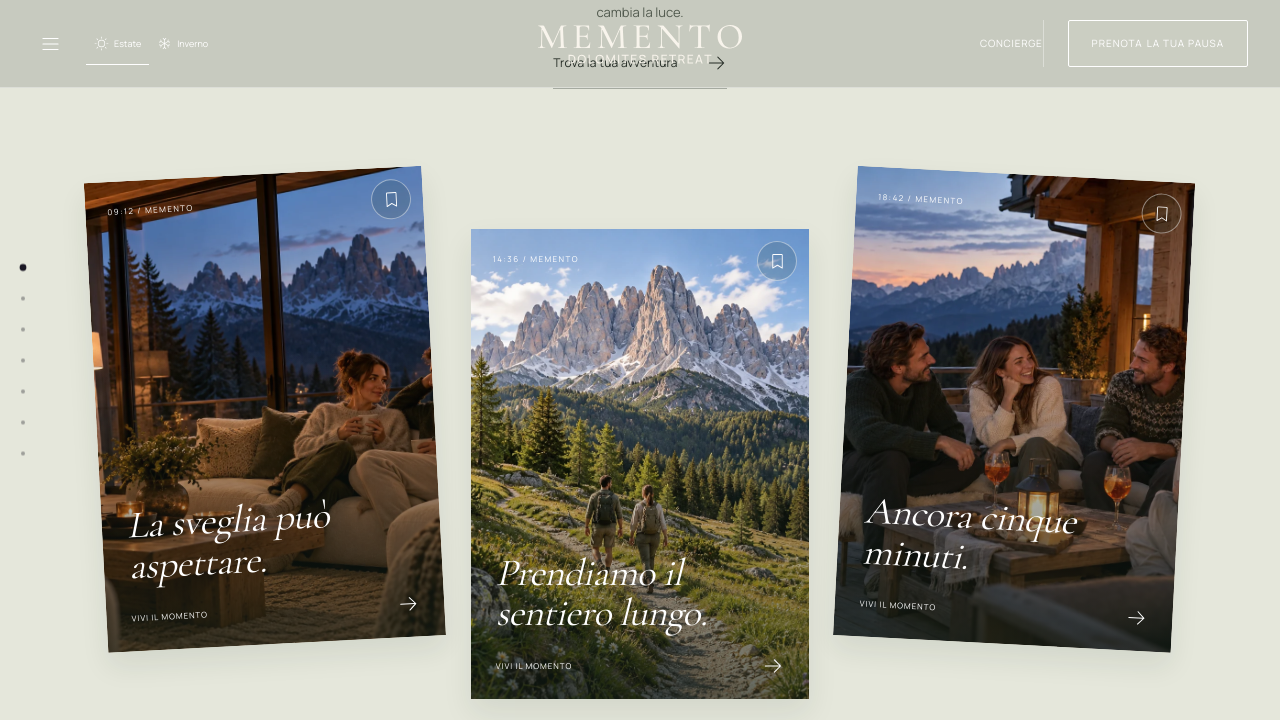
Test: Visitor flows in a DOM simulation › opens a day moment with matching copy, then carries its intention into the planner
This screenshot has width=1280, height=720.
(page scrolled)
Click the button with aria-label "Apri il momento: Ancora cinque minuti.".
click(1015, 409)  # box [833,165,1196,652]
(page scrolled)
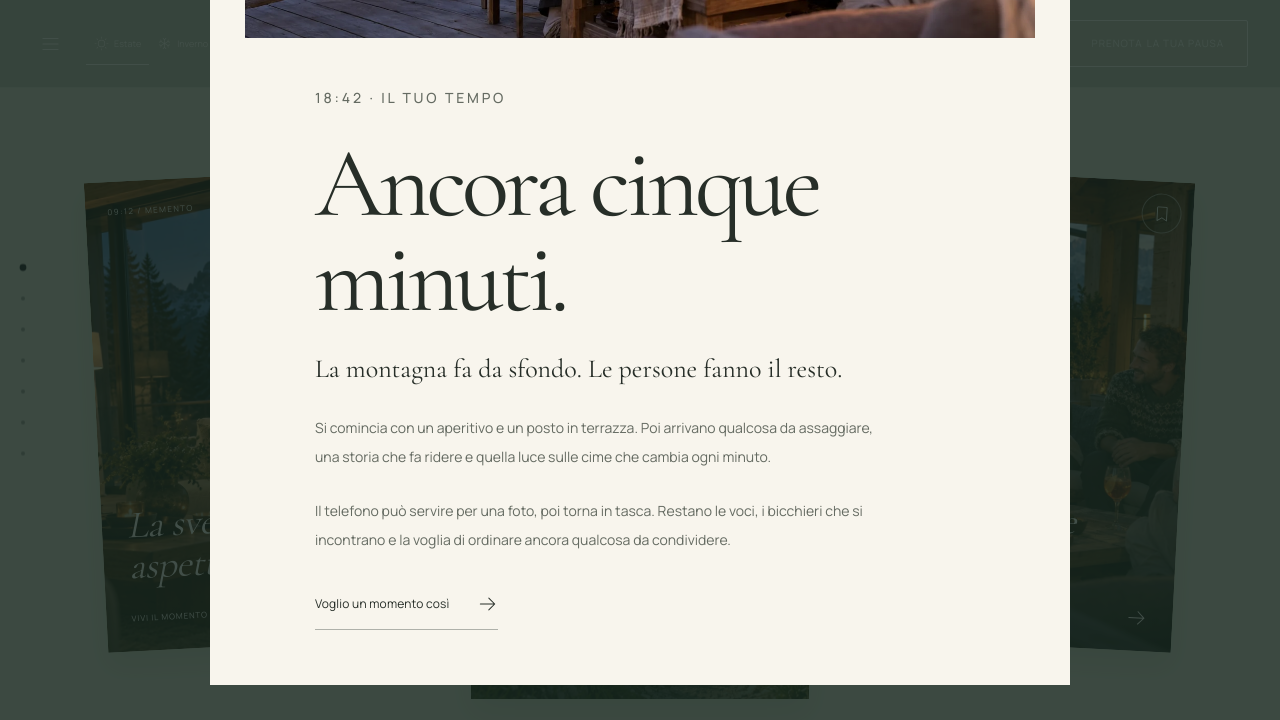
Expected: the text "Si comincia con un aperitivo" is shown, [315,418,873,466]
Click the button "Voglio un momento così".
click(407, 605)  # box [315,579,498,630]
(page scrolled)
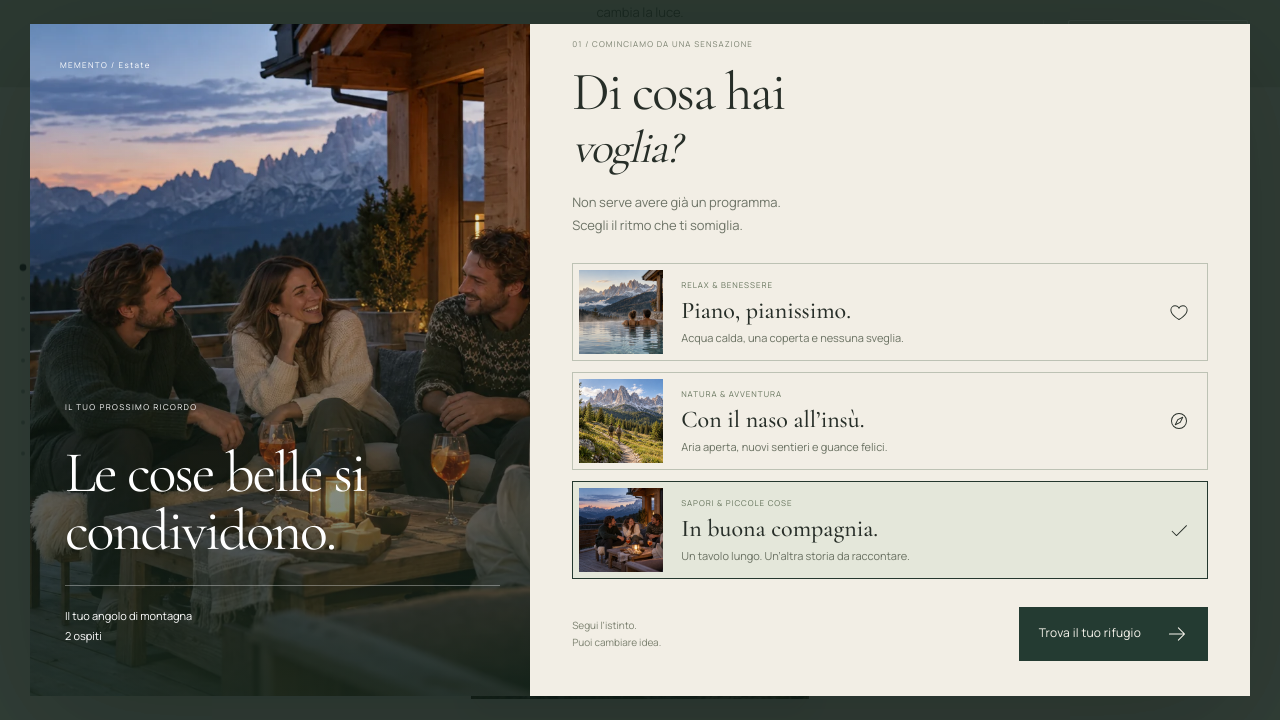
Click the button "Trova il tuo rifugio".
click(1113, 634)  # box [1019,607,1208,661]
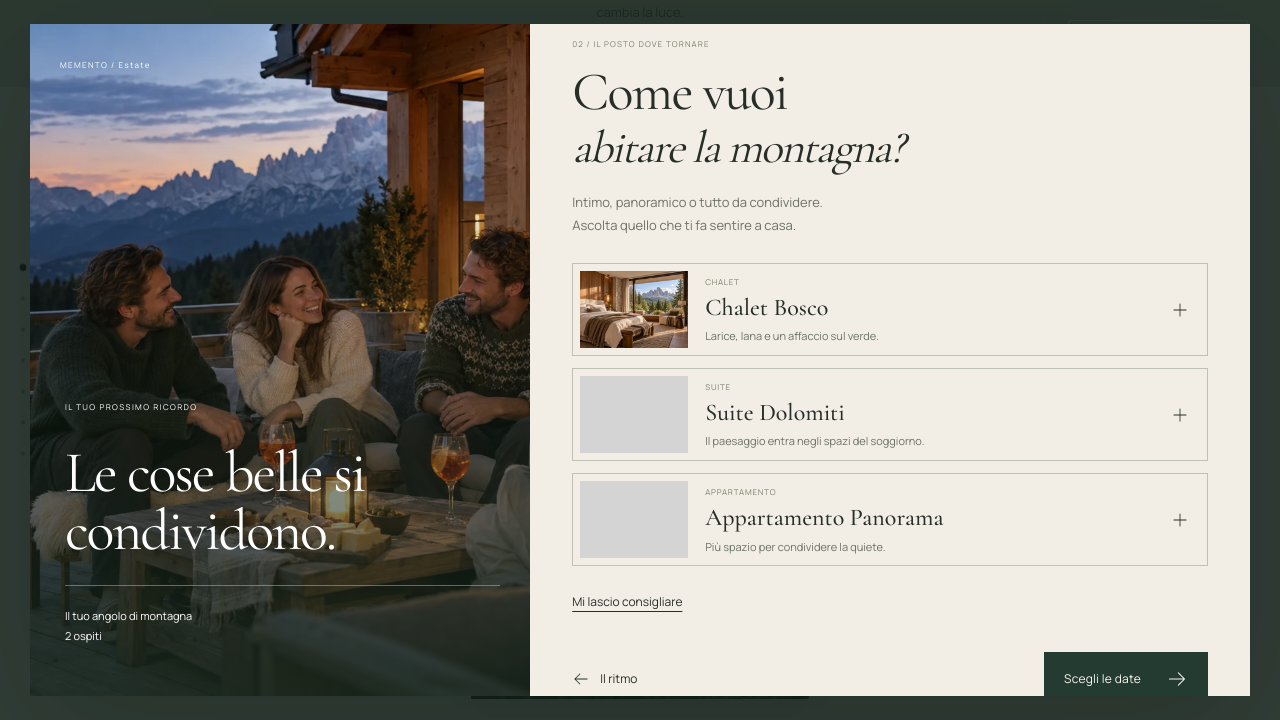
Click the button "Scegli le date".
click(1126, 679)  # box [1044,652,1208,706]
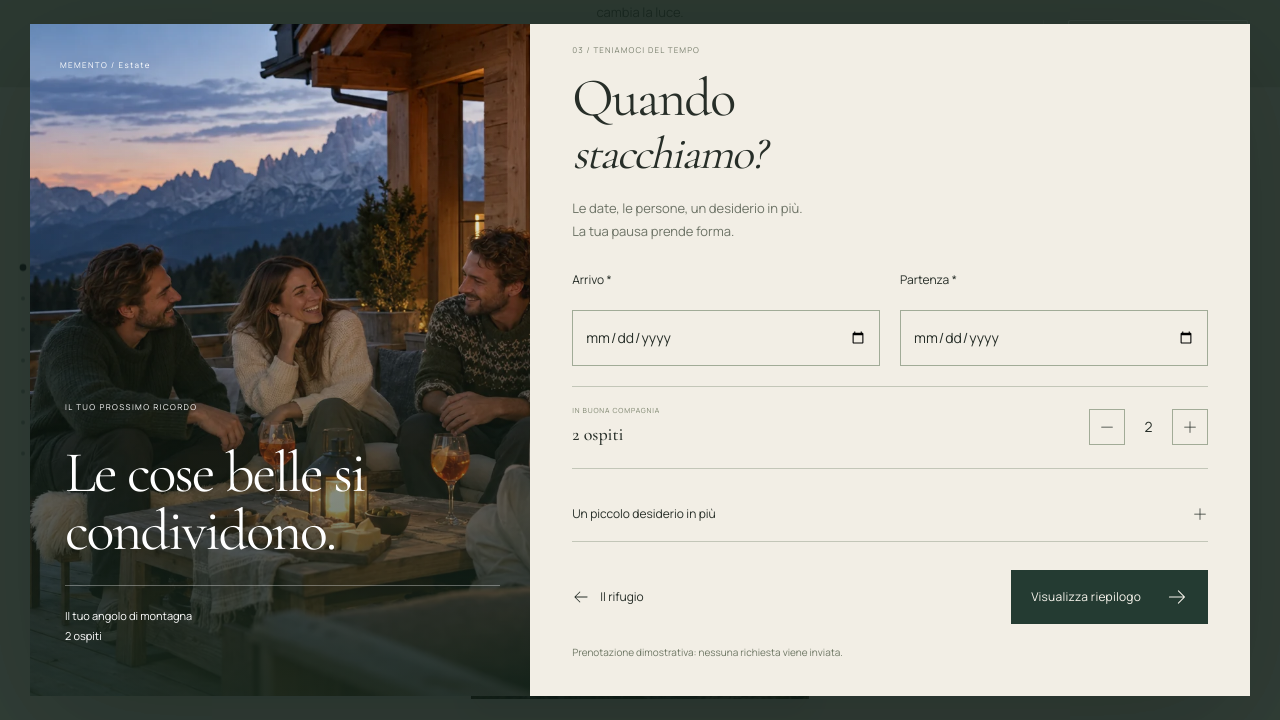
Click the heading "Un piccolo desiderio in più".
click(644, 513)  # box [572,503,1208,525]
(page scrolled)
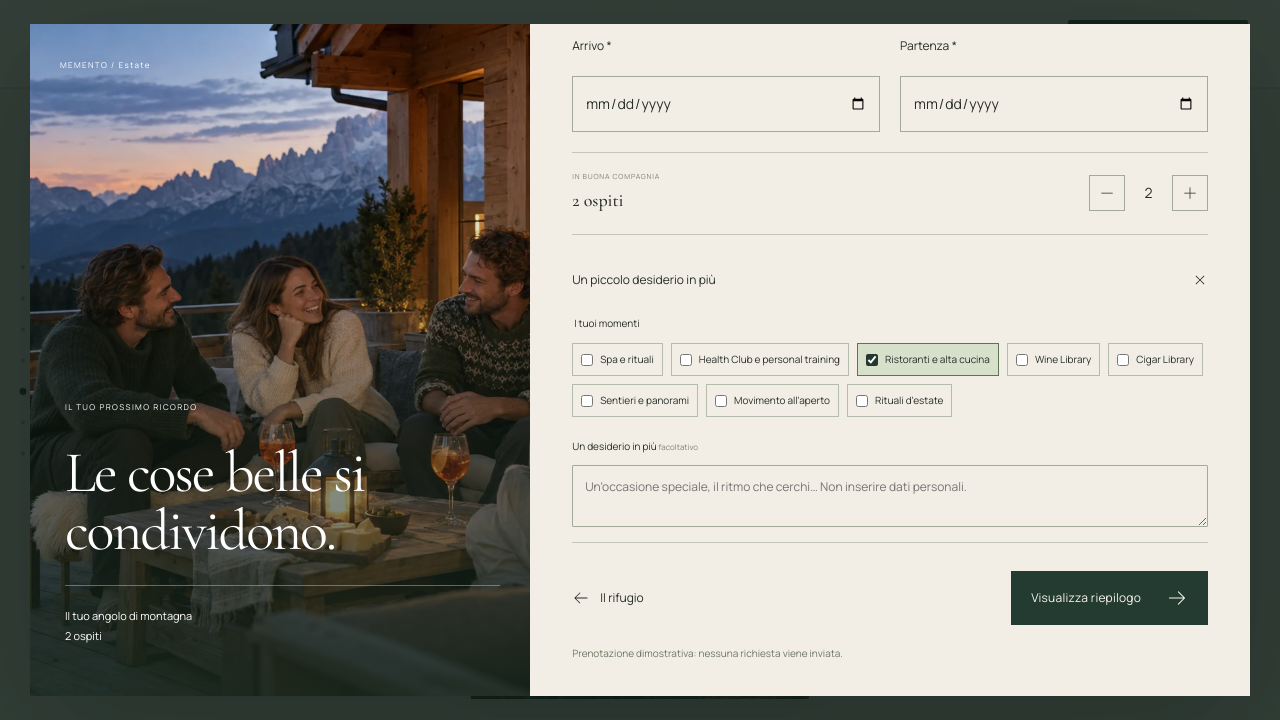
Expected: the checkbox labelled "Ristoranti e alta cucina" is checked, [866,354,878,366]
